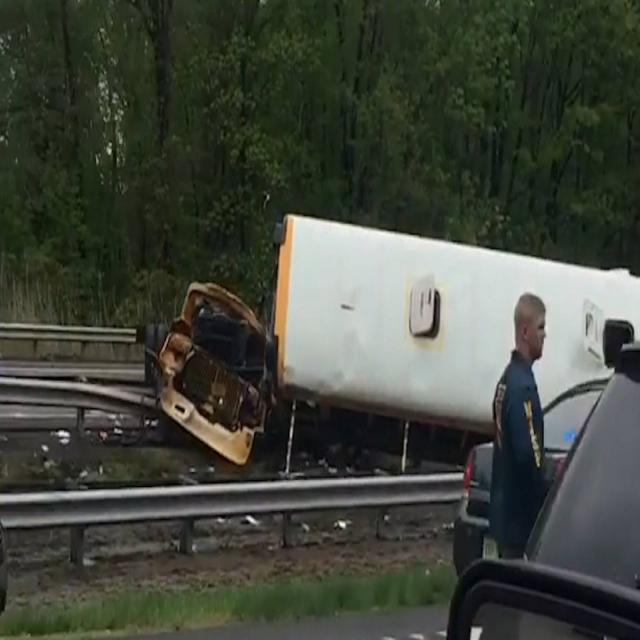accident: (145, 216, 640, 464)
